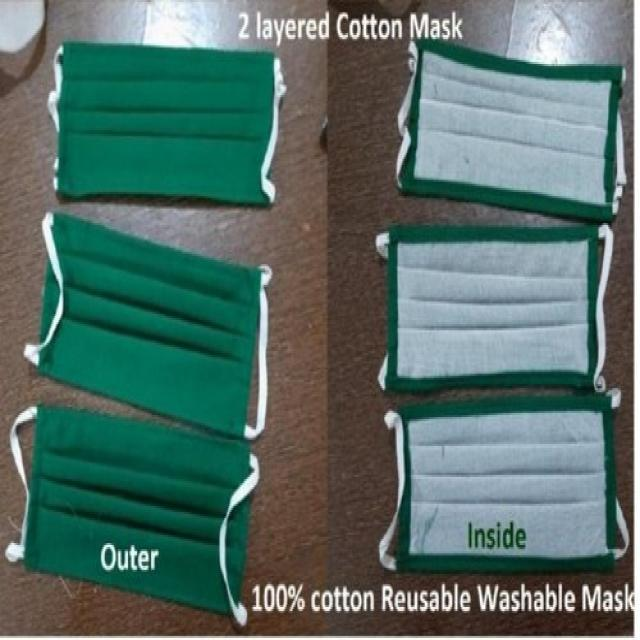face mask: (10, 394, 264, 616), (41, 205, 269, 440), (371, 217, 622, 400), (404, 29, 621, 221), (384, 411, 622, 578), (54, 48, 286, 208)
